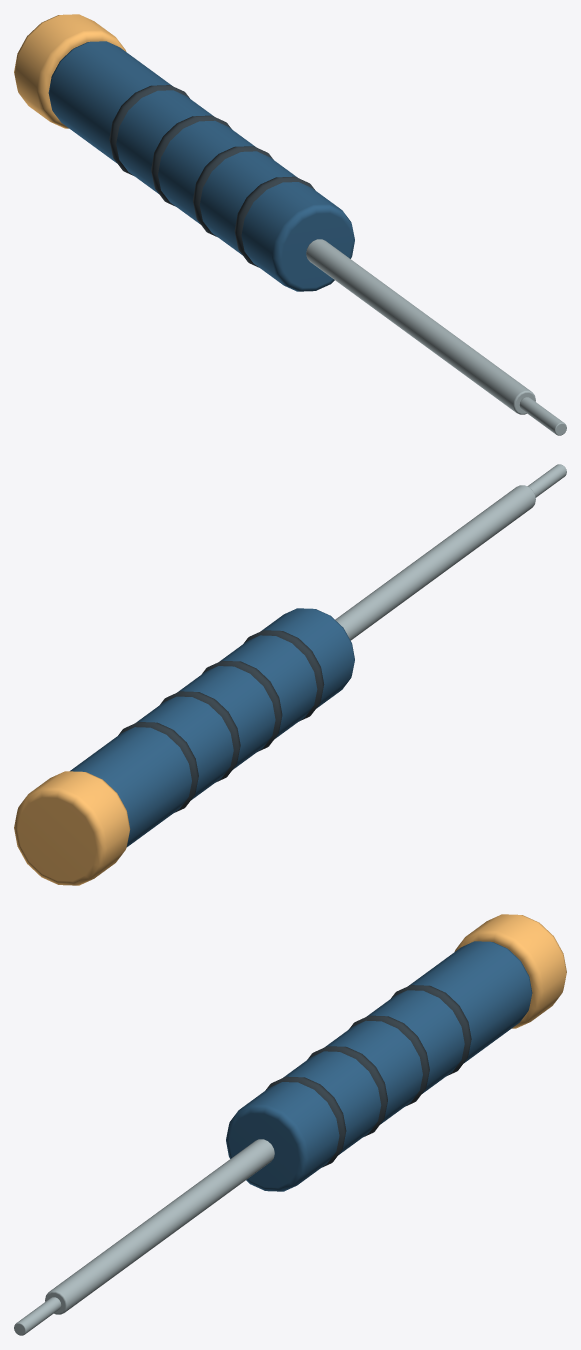
The model's file is precision_screwdriver.glb.
3 renders of one model, top to bottom at view 1: azimuth 30°, elevation 25°; view 2: azimuth 150°, elevation 25°; view 3: azimuth 330°, elevation 25°, orthographic.
Visible parts, largest first — view 1: Precision_driver_handle.001, Precision_driver_shaft.001, Driver_rotating_cap.001, Handle_grip_band.007, Handle_grip_band.005, Handle_grip_band.006, Handle_grip_band.004, Precision_driver_bit.001; view 2: Precision_driver_handle.001, Driver_rotating_cap.001, Precision_driver_shaft.001, Handle_grip_band.004, Handle_grip_band.007, Handle_grip_band.005, Handle_grip_band.006, Precision_driver_bit.001; view 3: Precision_driver_handle.001, Precision_driver_shaft.001, Driver_rotating_cap.001, Handle_grip_band.007, Handle_grip_band.005, Handle_grip_band.006, Handle_grip_band.004, Precision_driver_bit.001.
Boxes of the visible parts, box(x1,y1,x2,y2) form: Precision_driver_handle.001: box(48, 41, 354, 291); Precision_driver_shaft.001: box(306, 239, 535, 414); Driver_rotating_cap.001: box(14, 14, 126, 128); Handle_grip_band.007: box(109, 85, 189, 175); Handle_grip_band.005: box(193, 146, 273, 236); Handle_grip_band.006: box(151, 115, 231, 206); Handle_grip_band.004: box(234, 176, 315, 267); Precision_driver_bit.001: box(519, 397, 566, 435); Precision_driver_handle.001: box(70, 608, 354, 847); Driver_rotating_cap.001: box(14, 771, 130, 885); Precision_driver_shaft.001: box(335, 485, 535, 640); Handle_grip_band.004: box(243, 630, 324, 721); Handle_grip_band.007: box(118, 722, 198, 812); Handle_grip_band.005: box(202, 660, 282, 751); Handle_grip_band.006: box(160, 691, 240, 782); Precision_driver_bit.001: box(527, 464, 566, 497); Precision_driver_handle.001: box(226, 941, 532, 1191); Precision_driver_shaft.001: box(45, 1139, 274, 1314); Driver_rotating_cap.001: box(454, 914, 566, 1028); Handle_grip_band.007: box(391, 985, 471, 1075); Handle_grip_band.005: box(307, 1046, 387, 1136); Handle_grip_band.006: box(349, 1015, 429, 1106); Handle_grip_band.004: box(265, 1076, 346, 1167); Precision_driver_bit.001: box(14, 1297, 61, 1335).
Bounding box in the file's own units: 0.018 × 0.018 × 0.169.
